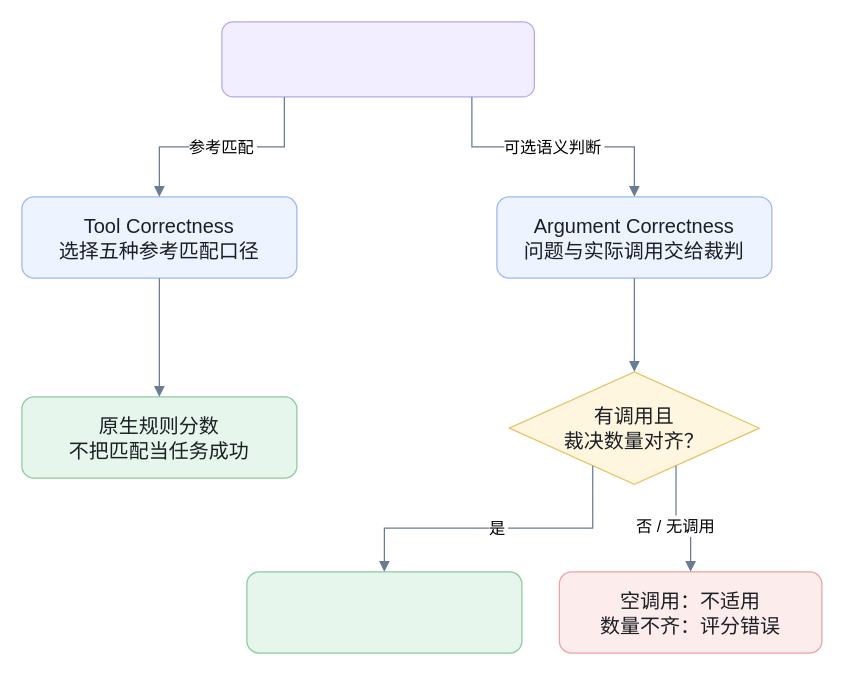
Image size: 844x675. Some labels were removed from this diagram. The centre of each missing label's shape, as x and y in pixels:
"保存 yes/no 与理由 再看实际执行状态" goes at (384,612).
"实际调用与参考调用 tools_called / expected_tools" goes at (377,59).
